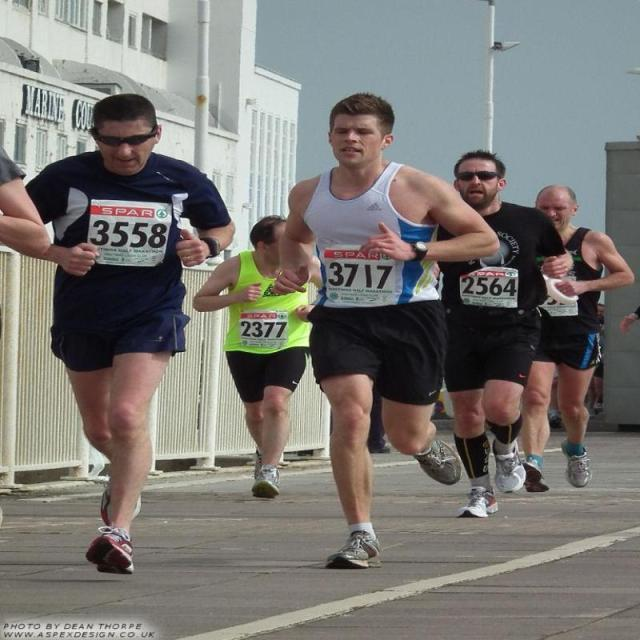dorsal: (77, 190, 176, 272), (315, 237, 408, 314), (456, 262, 524, 312), (230, 305, 296, 354)
